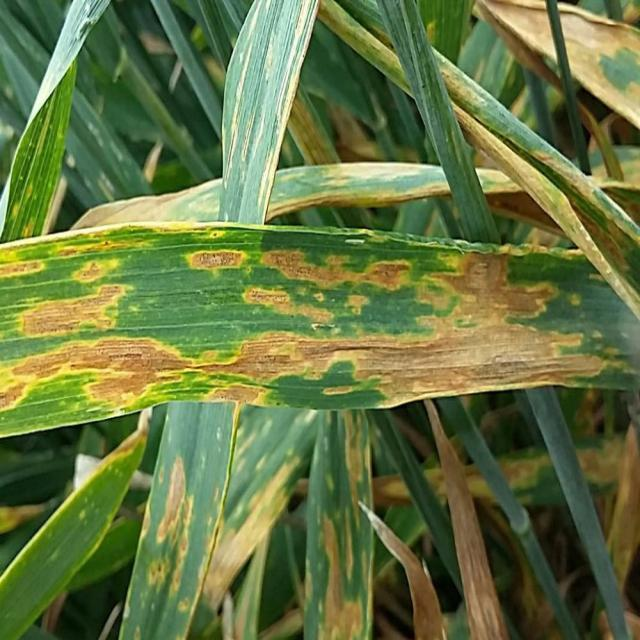Septoria: (0, 223, 639, 435), (117, 410, 318, 640), (303, 409, 373, 639)
